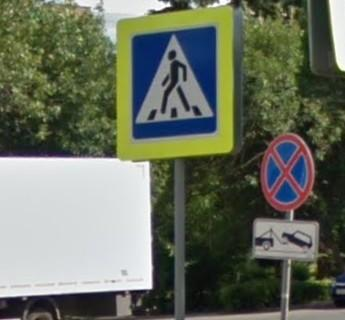No Parking: (261, 132, 315, 212)
